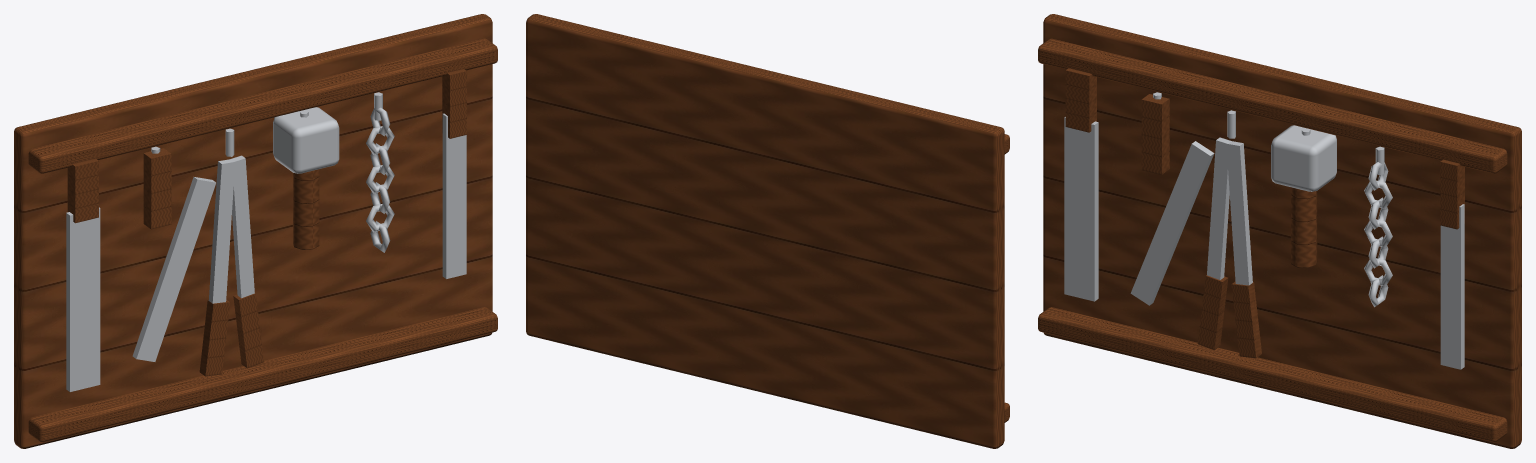
The model's file is halloween-slasher-street-hanging-tool-rack-62778c32__27289.glb.
3 views of the same model, side by side, from view 1: azimuth 30°, elevation 25°; view 2: azimuth 150°, elevation 25°; view 3: azimuth 330°, elevation 25° (orthographic).
Visible parts, largest first — view 1: hanging-tool-rack; view 2: hanging-tool-rack; view 3: hanging-tool-rack.
Boxes of the visible parts, <box> form: hanging-tool-rack: <box>14,14,497,448</box>; hanging-tool-rack: <box>526,14,1009,448</box>; hanging-tool-rack: <box>1038,14,1521,448</box>.
Size of the model in its own units: 1.4 by 0.9001 by 0.17.
2 materials, 1 textured.
